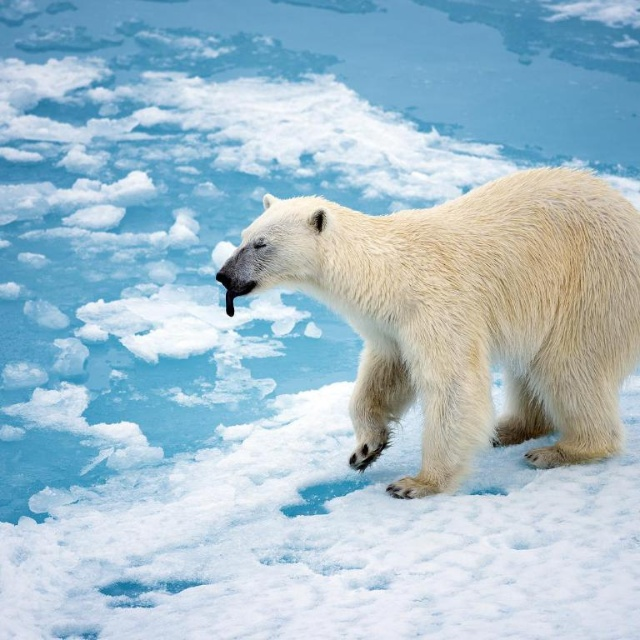Polar bear: (206, 172, 639, 500)
